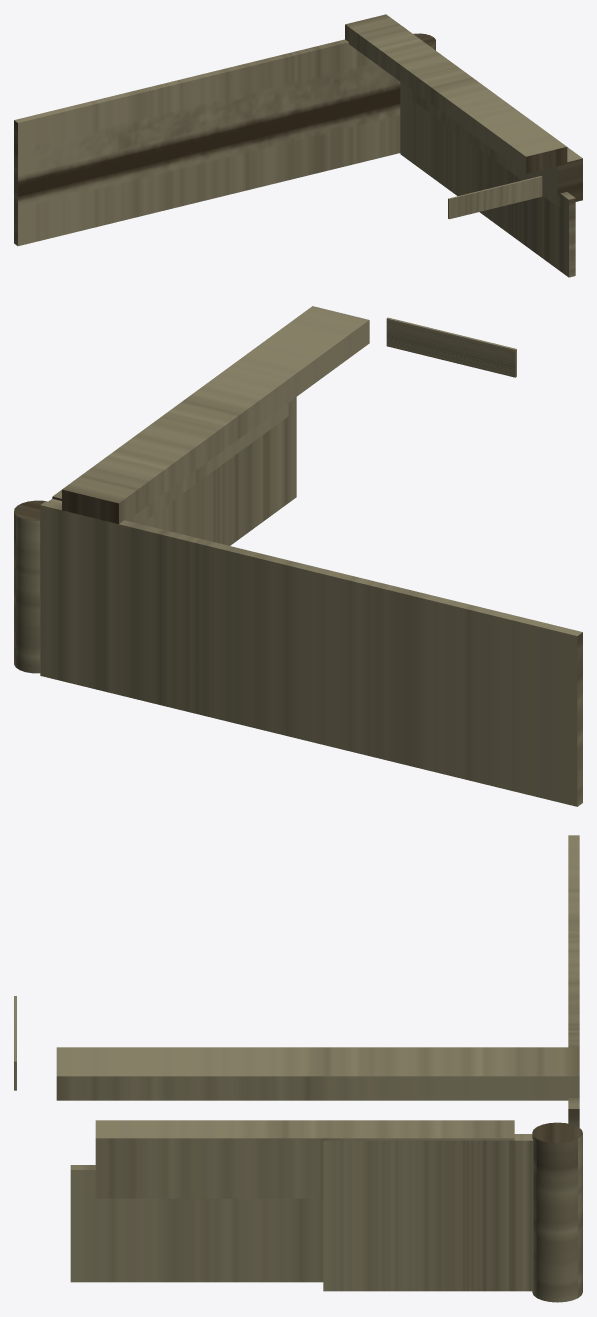
The model's file is wall2.obj.
The picture shows the model from 3 angles, top to bottom: view 1: azimuth 30°, elevation 25°; view 2: azimuth 150°, elevation 25°; view 3: azimuth 270°, elevation 25°; orthographic projection. The views are drawn at different scales.
Visible parts, largest first — view 1: pasted__pCube37 polySurface22, pasted__pCube37 polySurface21, pasted__polySurface14 pasted__pasted__pCube37 group121, polySurface20 pasted__pCube37, pasted__pCube2 group12; view 2: pasted__pCube37 polySurface22, pasted__pCube37 polySurface21, pasted__polySurface14 pasted__pasted__pCube37 group121, pasted__pCube37 polySurface16, pasted__pCube2 group12, polySurface20 pasted__pCube37; view 3: pasted__pasted__polySurface14 pasted__pasted__pasted__pCube37 pa, pasted__pCube37 polySurface21, pasted__polySurface14 pasted__pasted__pCube37 group121, polySurface20 pasted__pCube37, pasted__pCube37 polySurface16, pasted__pCube37 polySurface22.
Boxes of the visible parts, x1,y1,x2,y2 form: pasted__pCube37 polySurface22: (14, 39, 400, 246); pasted__pCube37 polySurface21: (345, 14, 567, 173); pasted__polySurface14 pasted__pasted__pCube37 group121: (400, 82, 575, 277); polySurface20 pasted__pCube37: (412, 91, 582, 206); pasted__pCube2 group12: (448, 176, 542, 219); pasted__pCube37 polySurface22: (40, 501, 582, 806); pasted__pCube37 polySurface21: (62, 306, 369, 524); pasted__polySurface14 pasted__pasted__pCube37 group121: (141, 397, 296, 545); pasted__pCube37 polySurface16: (14, 500, 50, 673); pasted__pCube2 group12: (386, 317, 516, 377); polySurface20 pasted__pCube37: (52, 403, 288, 524); pasted__pasted__polySurface14 pasted__pasted__pasted__pCube37 pa: (323, 1134, 533, 1291); pasted__pCube37 polySurface21: (56, 1047, 579, 1100); pasted__polySurface14 pasted__pasted__pCube37 group121: (70, 1165, 323, 1282); polySurface20 pasted__pCube37: (95, 1120, 514, 1198); pasted__pCube37 polySurface16: (532, 1122, 582, 1302); pasted__pCube37 polySurface22: (568, 835, 579, 1127).
Bounding box in the file's own units: 94.62 × 30.35 × 78.3.
4 materials, 4 textured.
